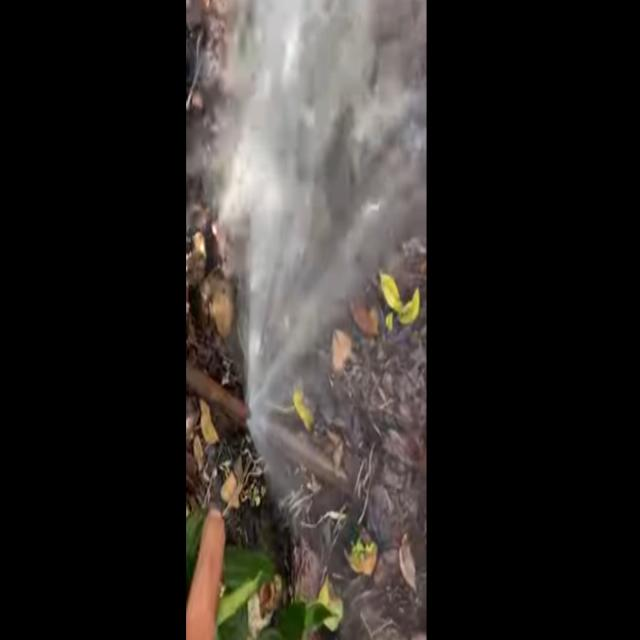leak: (222, 2, 425, 570)
